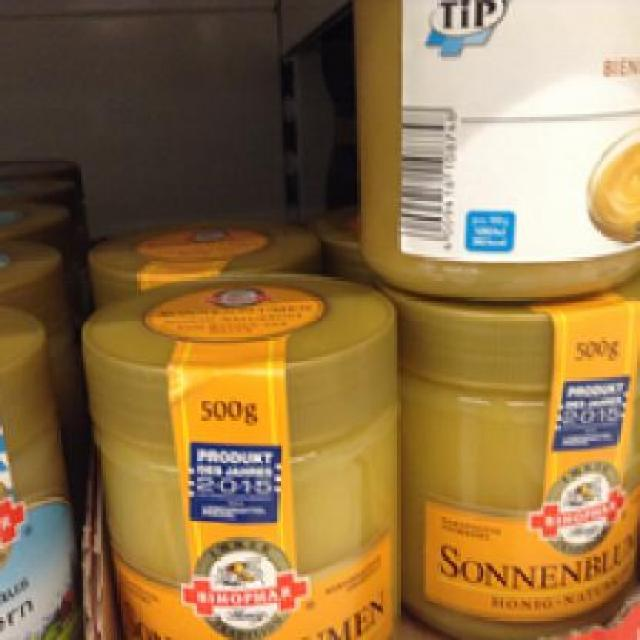Honey: (72, 268, 394, 638), (347, 0, 638, 292), (394, 294, 637, 626)
